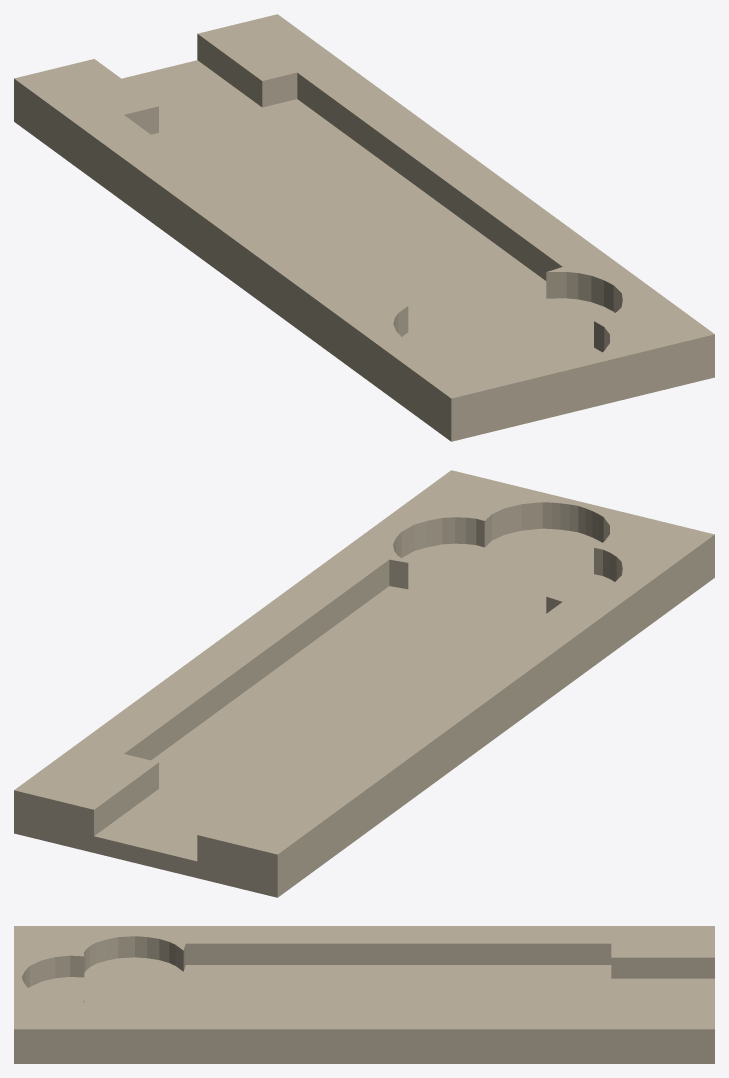
Rendered from SM_LightBlocker_001.FBX.
The picture shows the model from 3 angles, top to bottom: view 1: azimuth 30°, elevation 25°; view 2: azimuth 150°, elevation 25°; view 3: azimuth 270°, elevation 25°; orthographic projection. The views are drawn at different scales.
Parts seen in each view (by area): view 1: SM_LightBlocker_001_LOD0; view 2: SM_LightBlocker_001_LOD0; view 3: SM_LightBlocker_001_LOD0.
Part boxes in pixels (x1,y1,x2,y2): SM_LightBlocker_001_LOD0: (14,14,714,441); SM_LightBlocker_001_LOD0: (14,470,714,897); SM_LightBlocker_001_LOD0: (14,926,714,1063).
Bounding box in the file's own units: 1878 × 5397 × 294.
